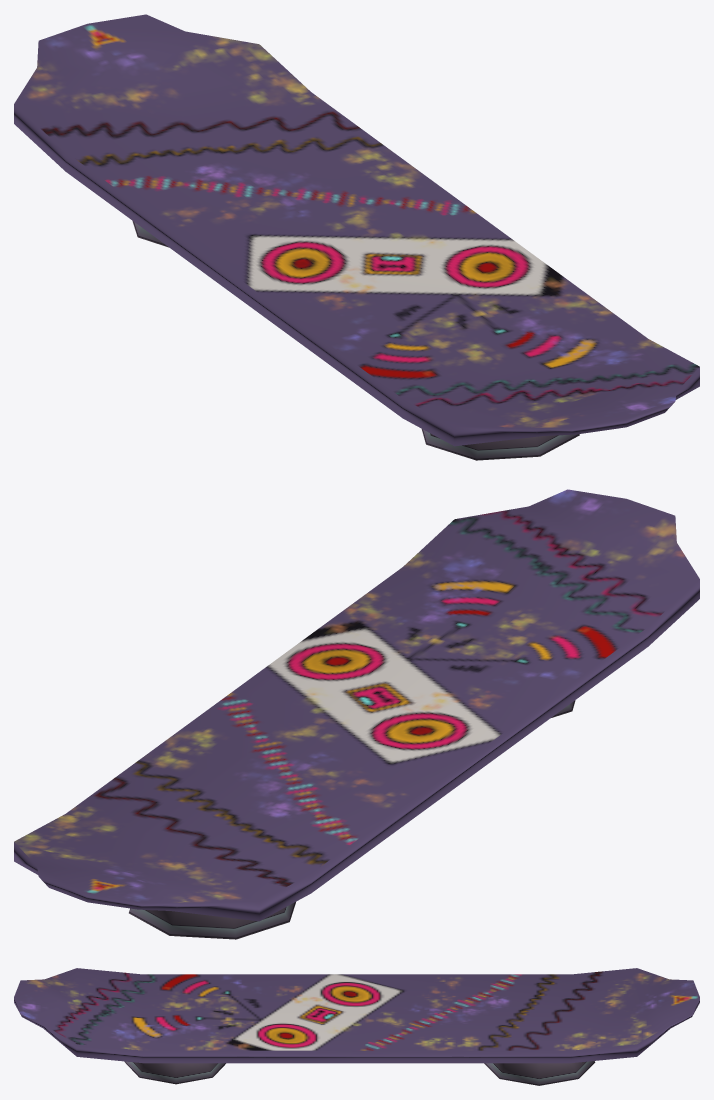
File: Hoverboard.fbx
The picture shows the model from 3 angles, top to bottom: view 1: azimuth 30°, elevation 25°; view 2: azimuth 150°, elevation 25°; view 3: azimuth 270°, elevation 25°; orthographic projection. The views are drawn at different scales.
Visible parts, largest first — view 1: Cube, Cylinder.002; view 2: Cube, Cylinder.001; view 3: Cube, Cylinder.001, Cylinder.002.
Boxes of the visible parts, x1=… form: Cube: x1=14, y1=14, x2=699, y2=446; Cylinder.002: x1=421, y1=429, x2=579, y2=460; Cube: x1=14, y1=489, x2=699, y2=921; Cylinder.001: x1=129, y1=902, x2=295, y2=939; Cube: x1=14, y1=968, x2=699, y2=1063; Cylinder.001: x1=484, y1=1061, x2=595, y2=1085; Cylinder.002: x1=124, y1=1061, x2=225, y2=1084.
Bounding box in the file's own units: 273 × 109 × 1040.
Materials: 2 (2 with a texture image).
